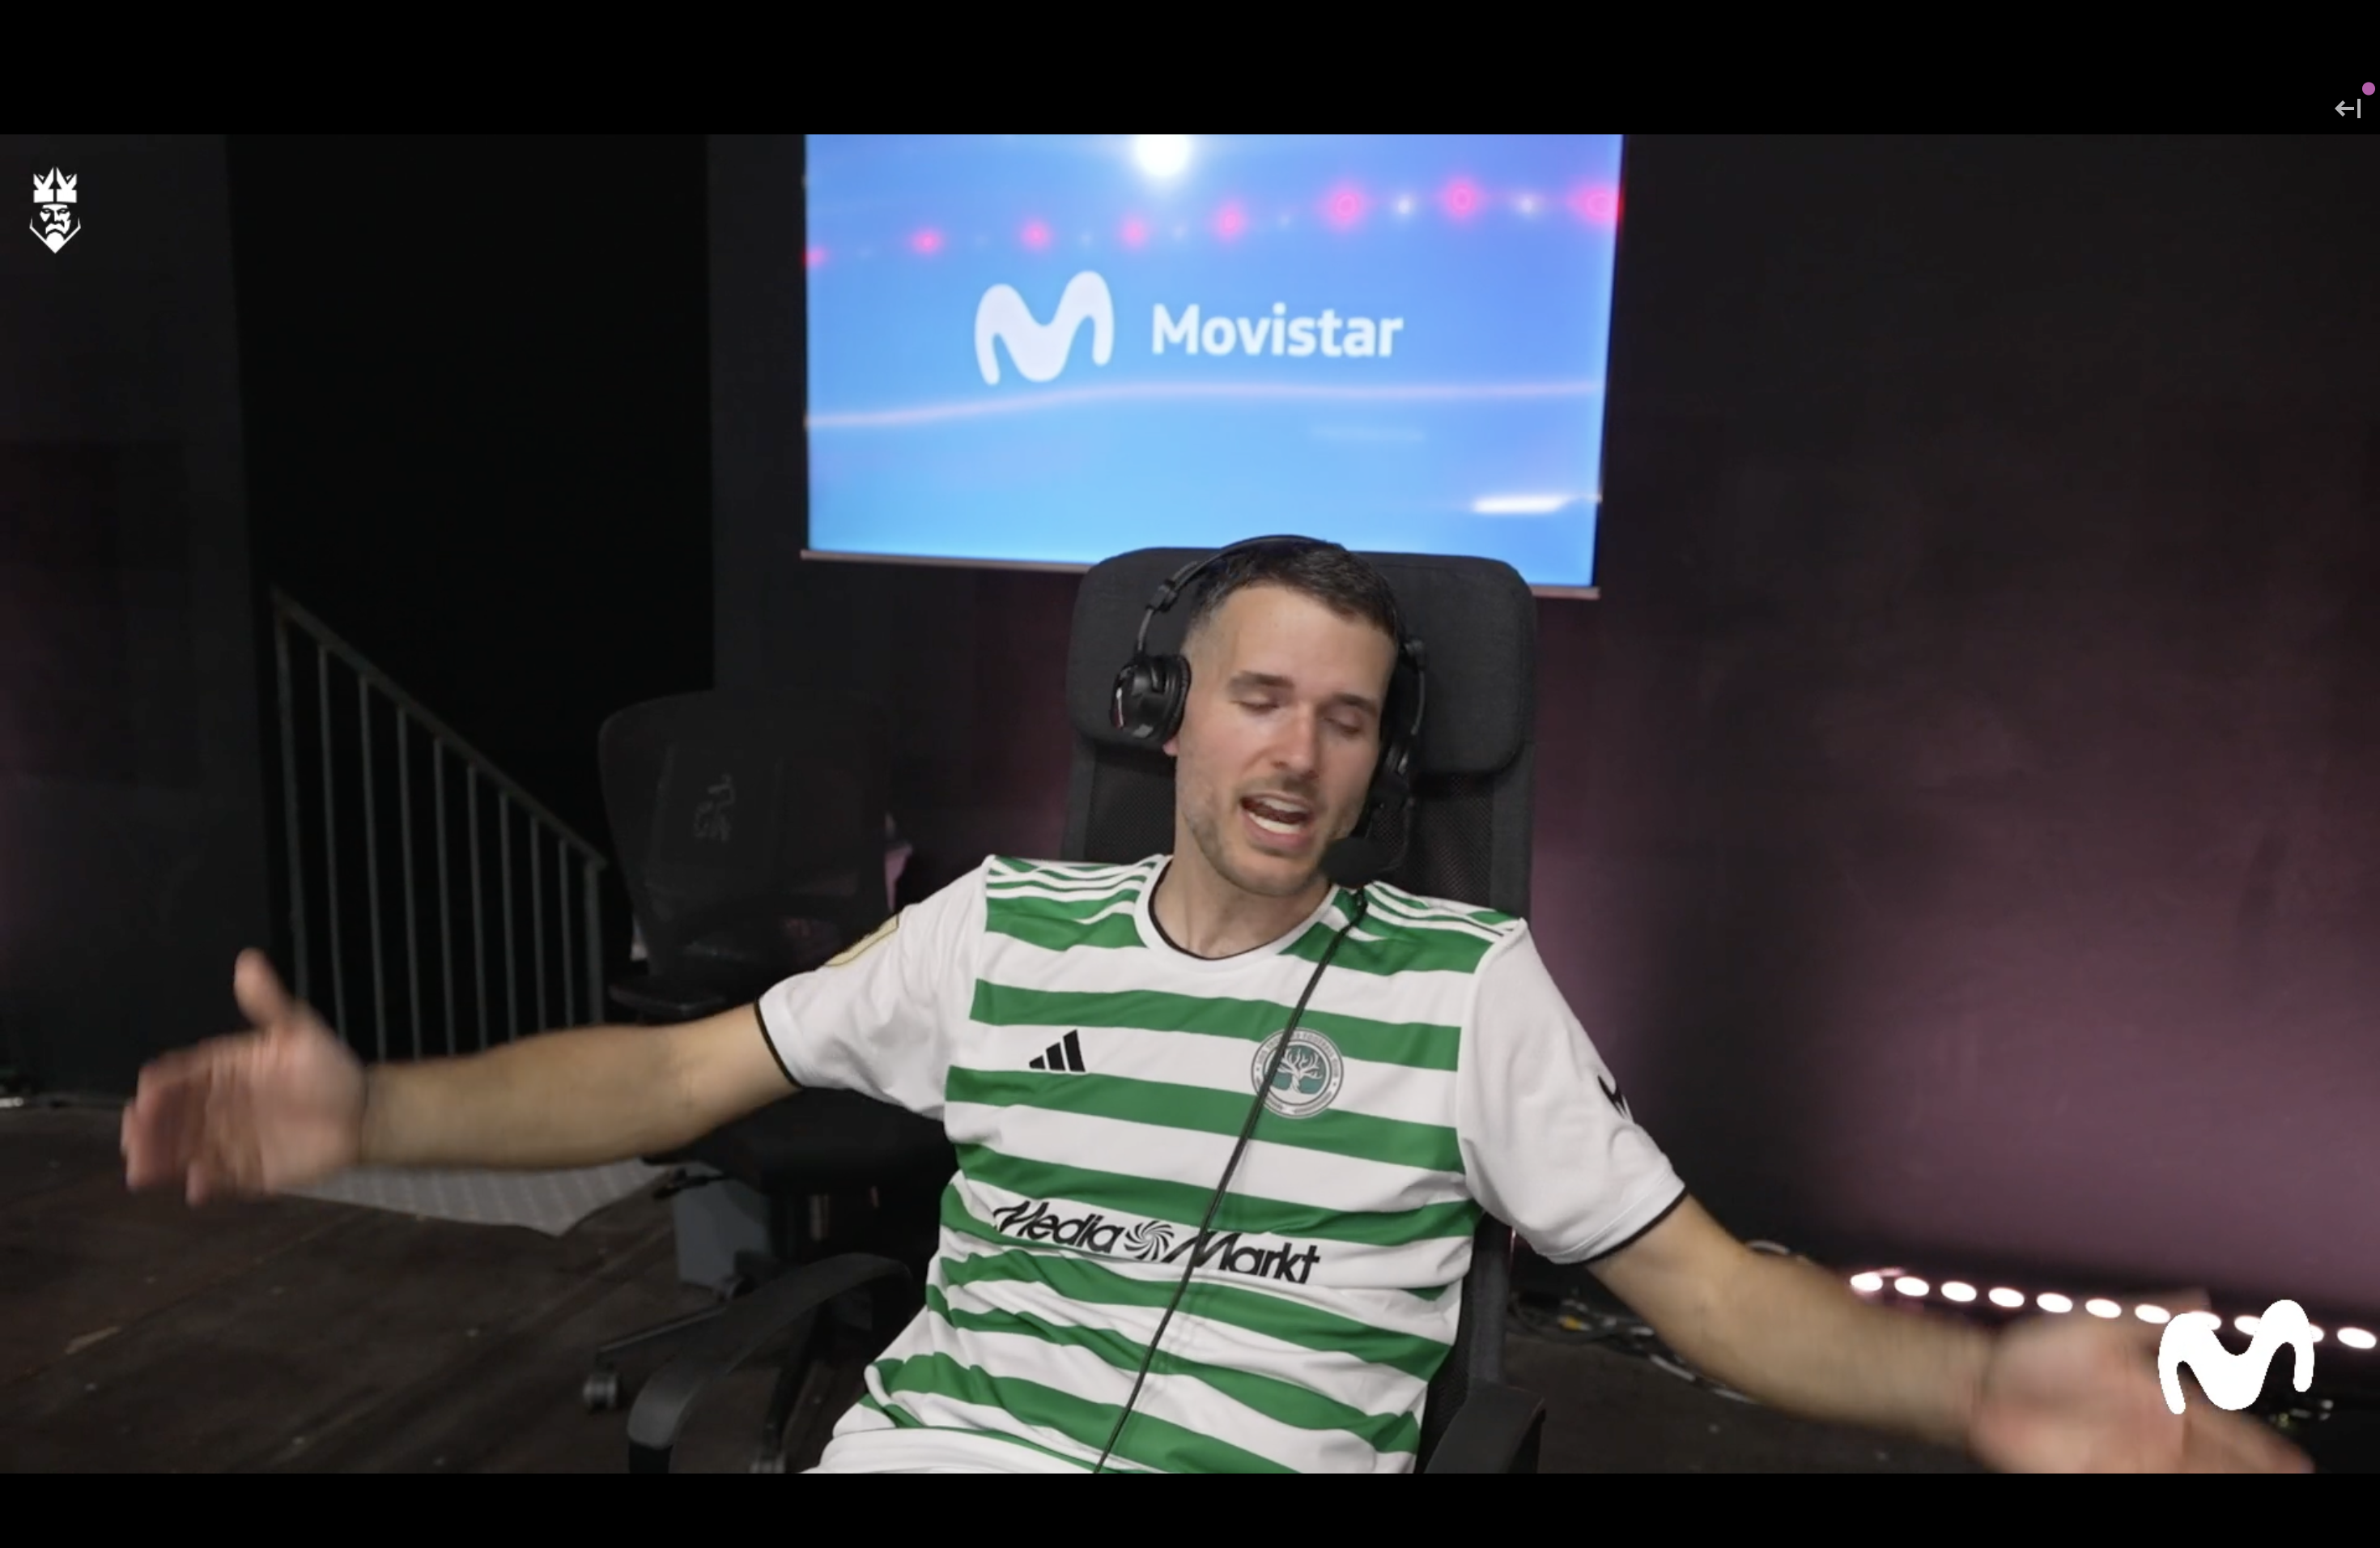person: (117, 531, 2321, 1478)
